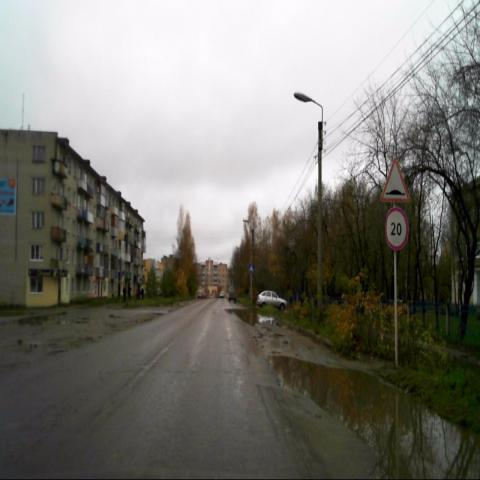1_17: (380, 156, 411, 203)
3_24: (386, 206, 408, 250)
5_20: (248, 263, 255, 275)
